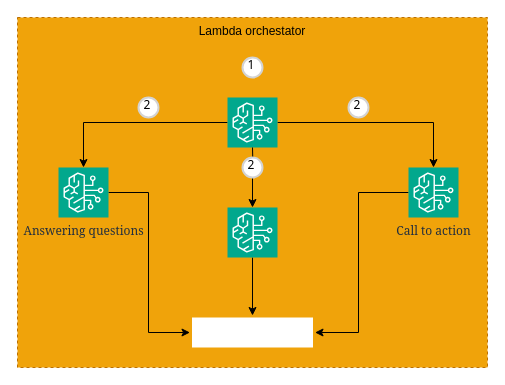
The diagram is 505 pixels wide and 385 high, and some of its shapes have lost their labels. The shapes that lost their labels are listed below. From the top down, each one's centre as x and y in pixels, then its label:
At (252,122): "Decision Agent".
At (252,232): "Examples generator".
At (252,332): "RESPONSE".
